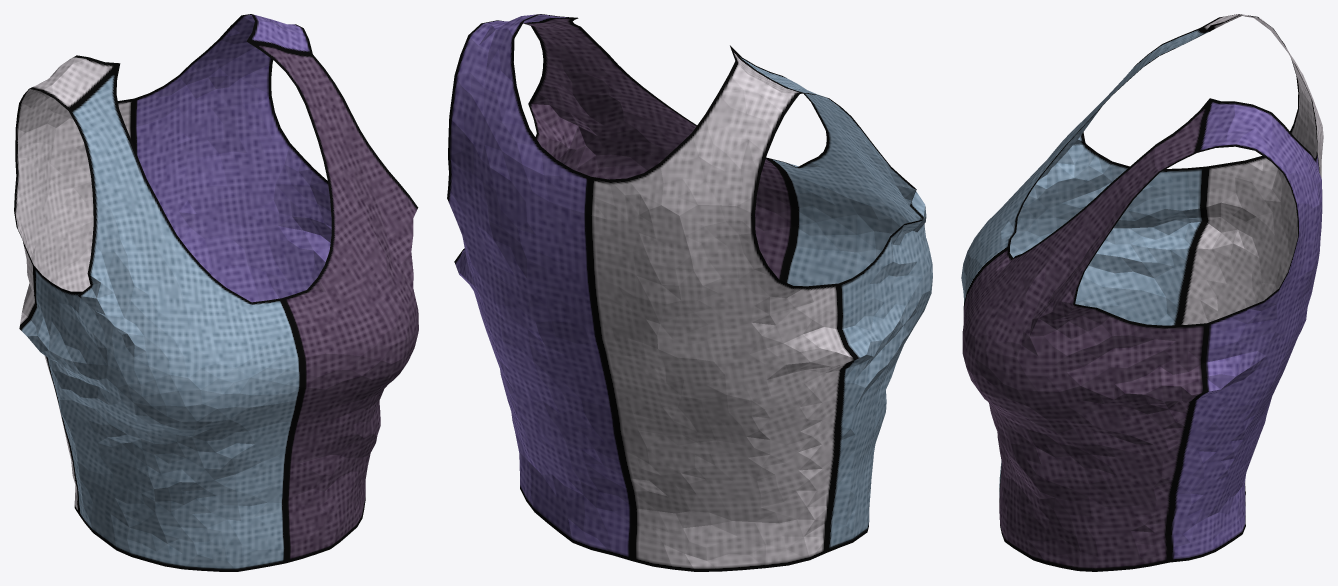
Rendered from tank_knit3_d40_sim.obj.
3 renders of one model, left to right at view 1: azimuth 30°, elevation 25°; view 2: azimuth 150°, elevation 25°; view 3: azimuth 270°, elevation 25°, orthographic. The views are drawn at different scales.
Bounding box in the file's own units: 22.82 × 28.68 × 20.39.
1 material, 1 textured.
